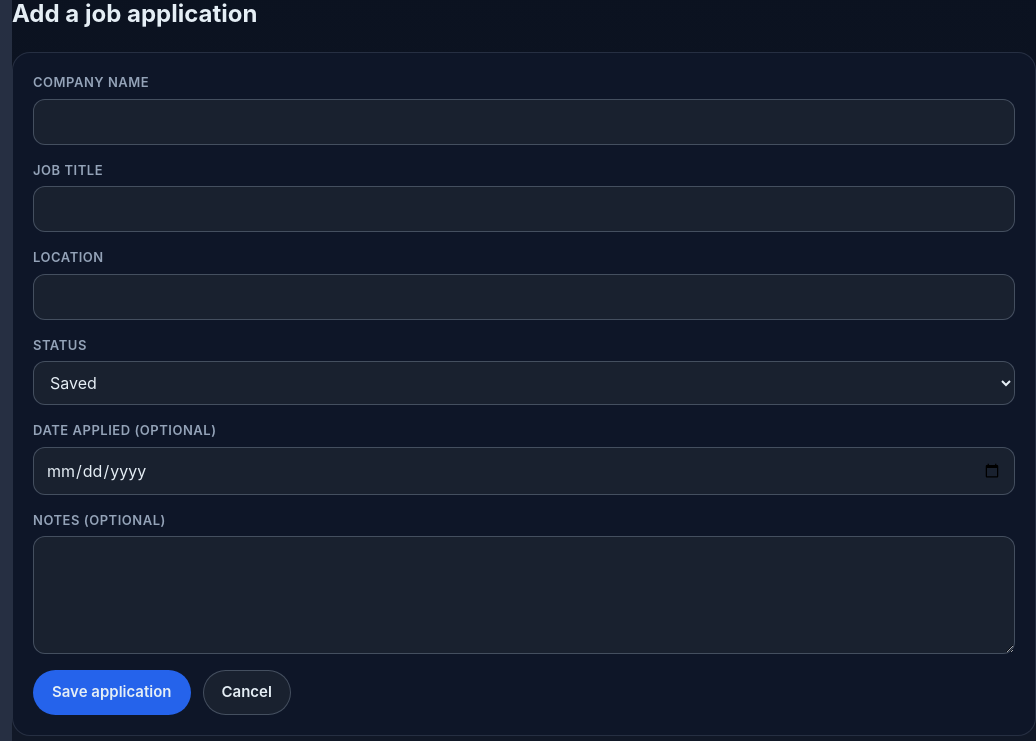
Test: repository errors reach the user with their own message › not-found already renders its own sentence
The image size is (1036, 741).
Type "Fishermend" into the field labelled "Company name".
click(524, 122); type("Fishermend")  # box 33,99 -> 1015,145
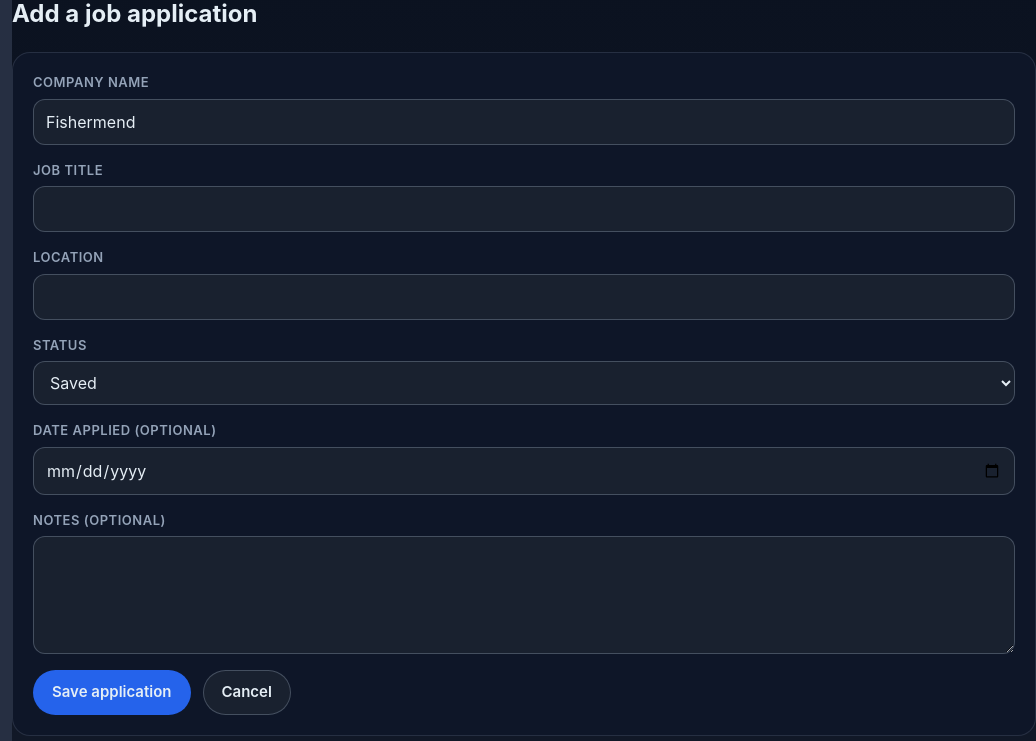
Type "Frontend Engineer" into the field labelled "Job title".
click(524, 209); type("Frontend Engineer")  # box 33,186 -> 1015,232
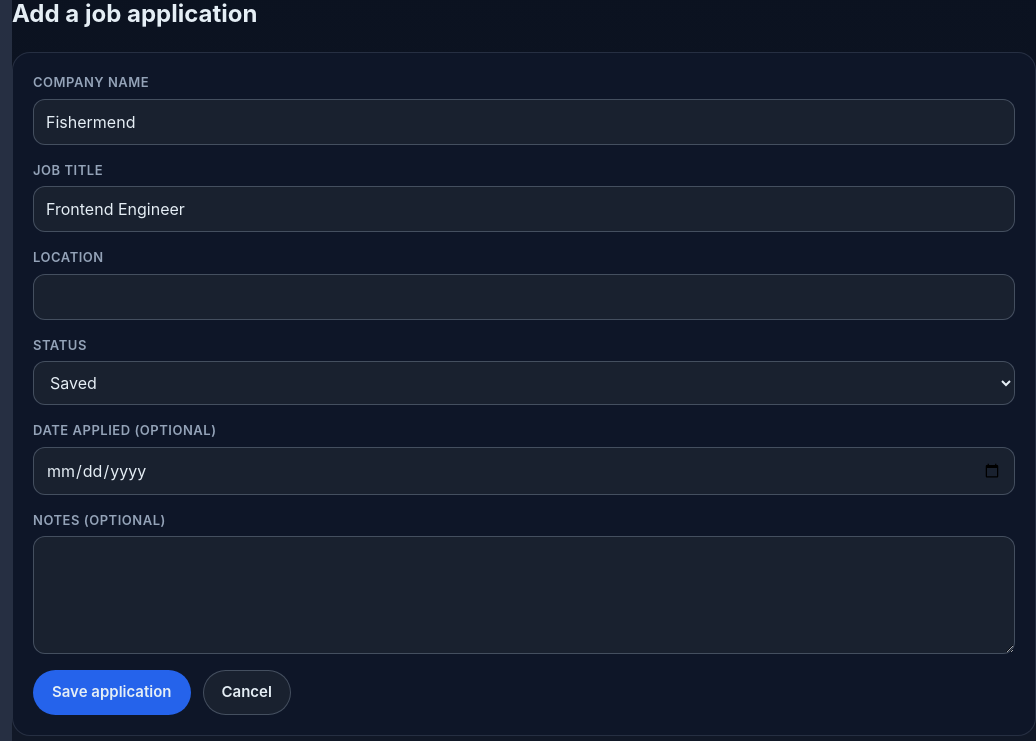
Type "Auckland, NZ" into the field labelled "Location".
click(524, 297); type("Auckland, NZ")  # box 33,274 -> 1015,320
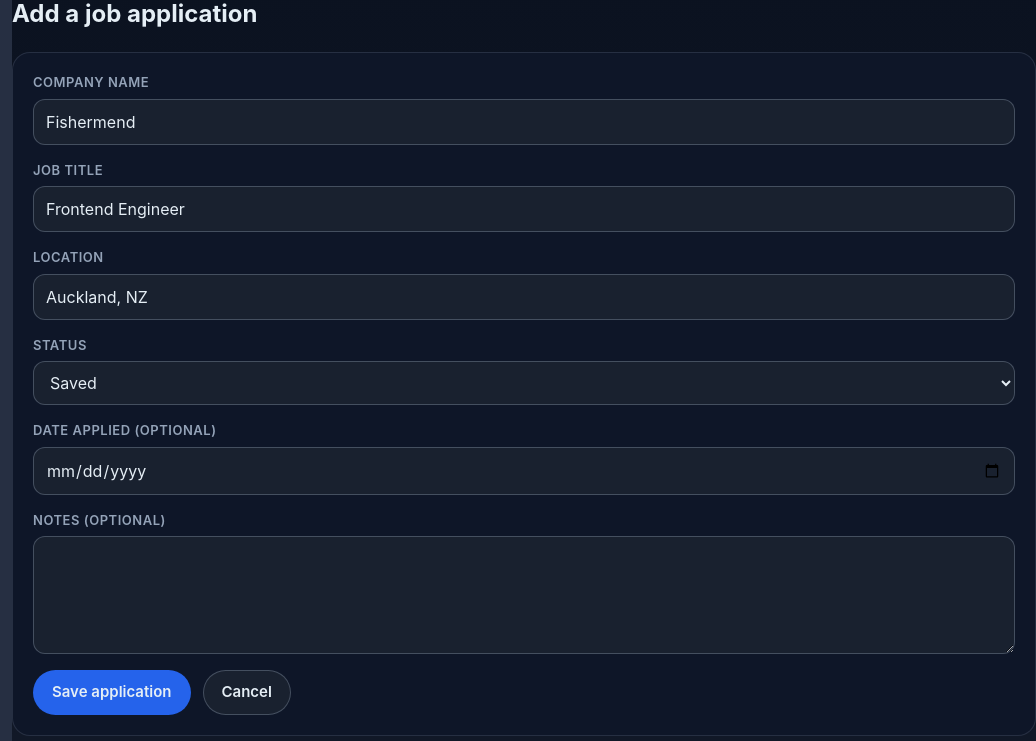
Click the button "Save application".
click(112, 692)  # box 33,670 -> 190,715
(page scrolled)
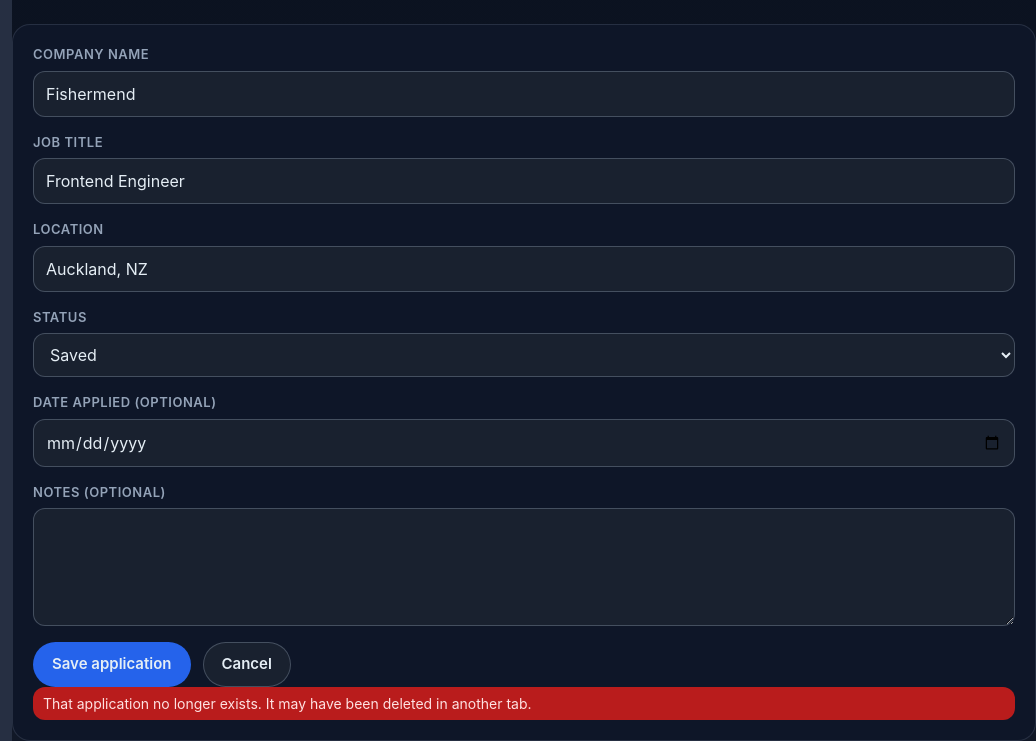
Expected: the message "That application no longer exists. It may have been deleted in another tab." is shown, 33,687 -> 1015,720
